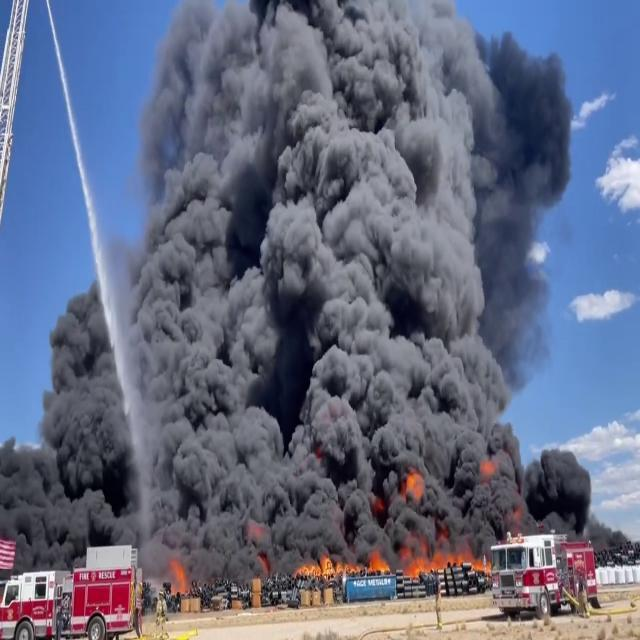Smoke: (55, 0, 600, 552)
